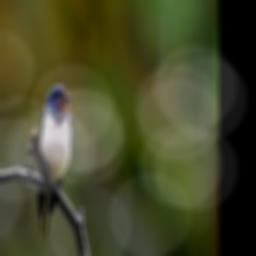Swallow: (37, 84, 73, 237)
